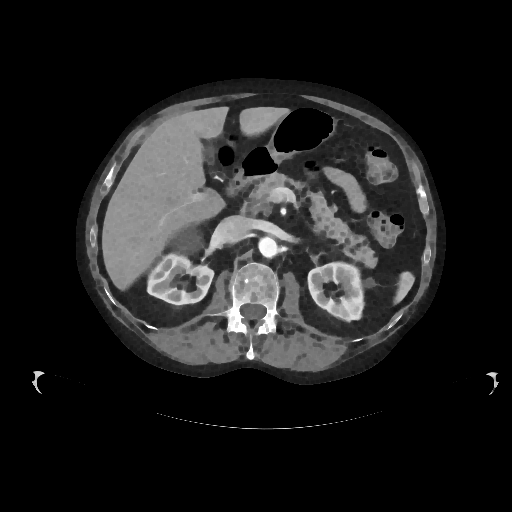Lesion: (362, 272, 380, 294)
